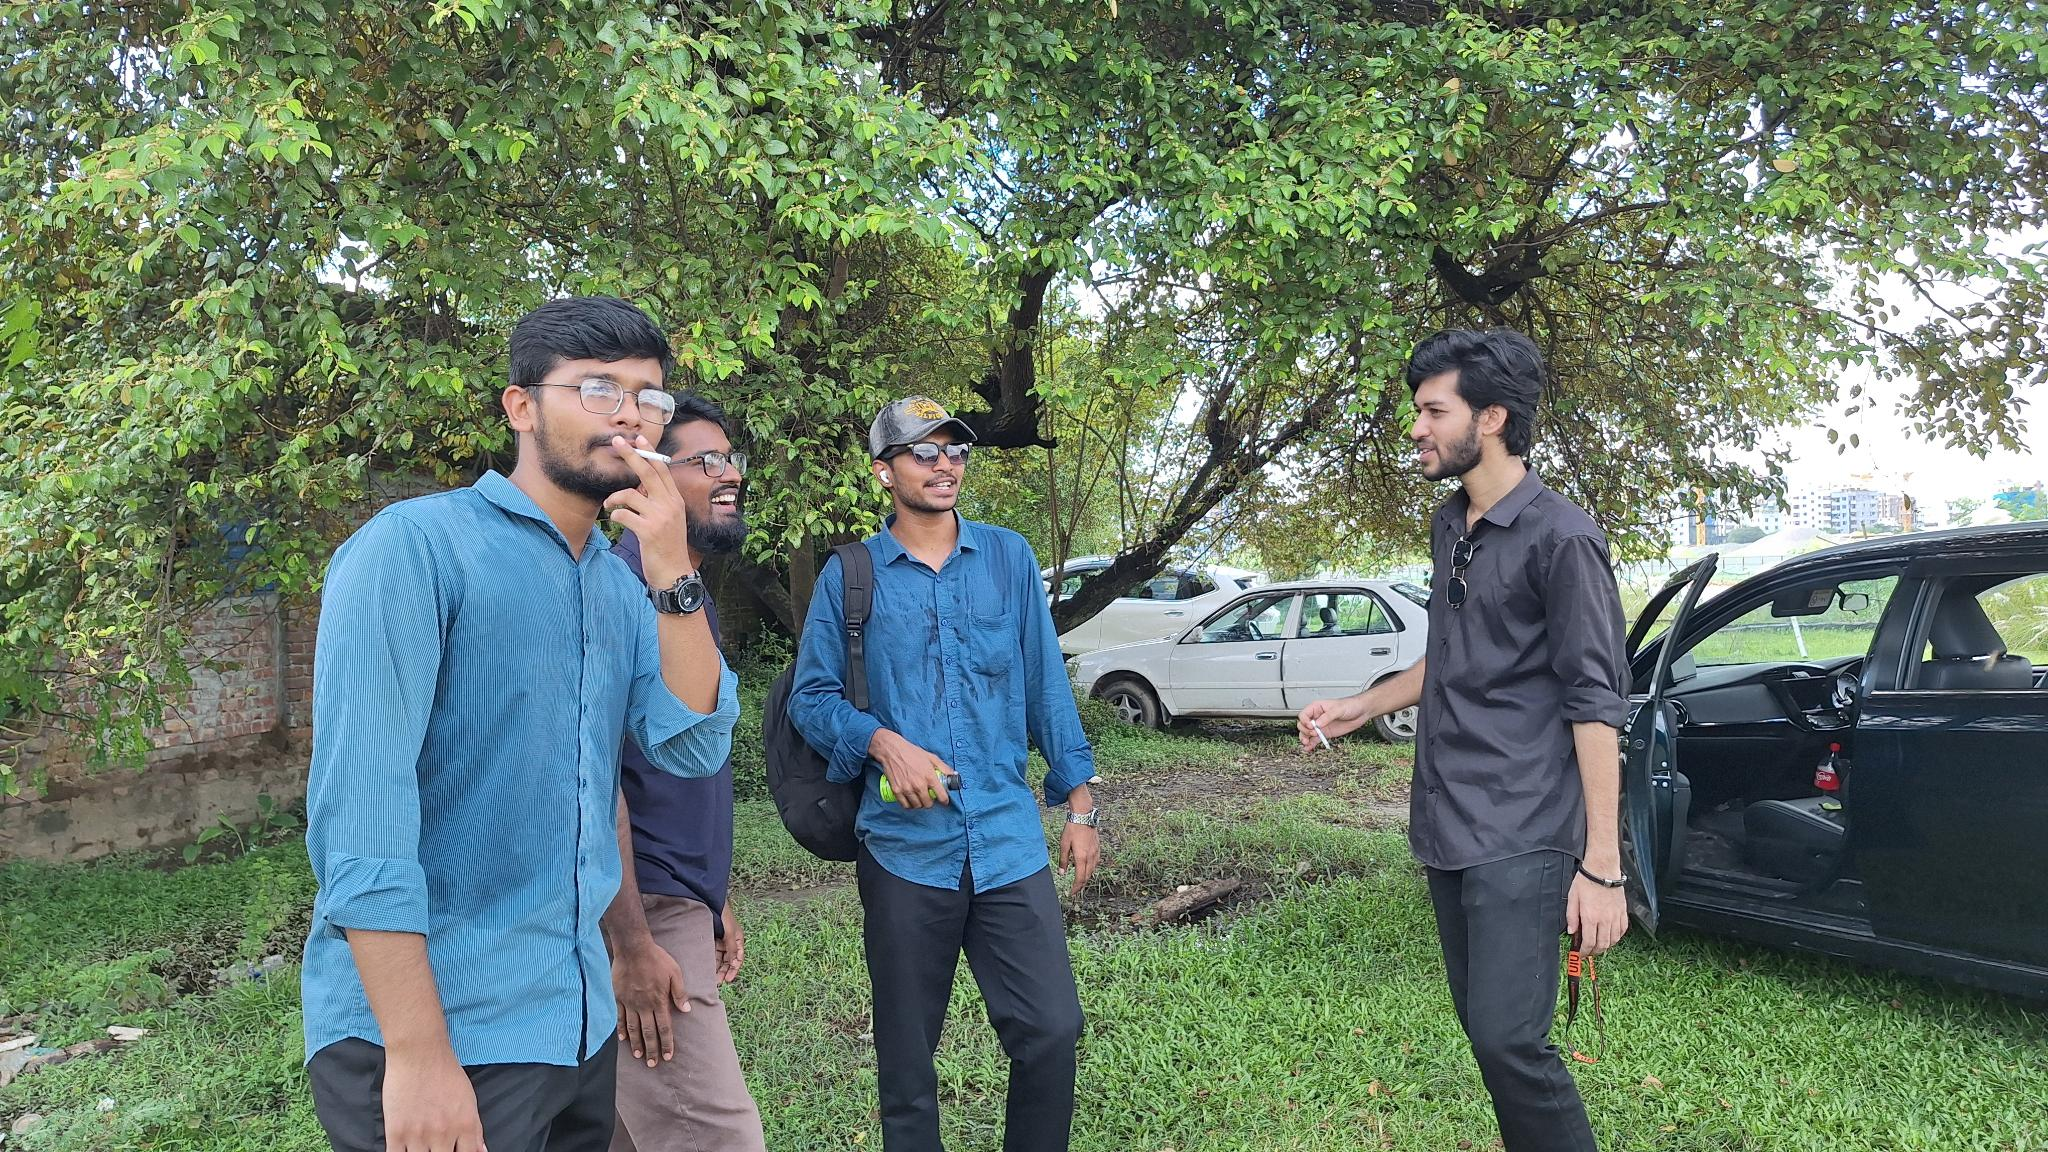cigarette: (629, 446, 672, 466), (1310, 717, 1331, 750)
nonSmoker: (769, 397, 1104, 1152)
smoker: (316, 288, 737, 1152), (1297, 328, 1634, 1152)
